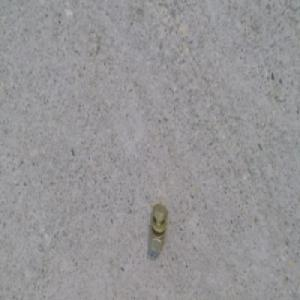BoltNutSet: (149, 203, 168, 250)
